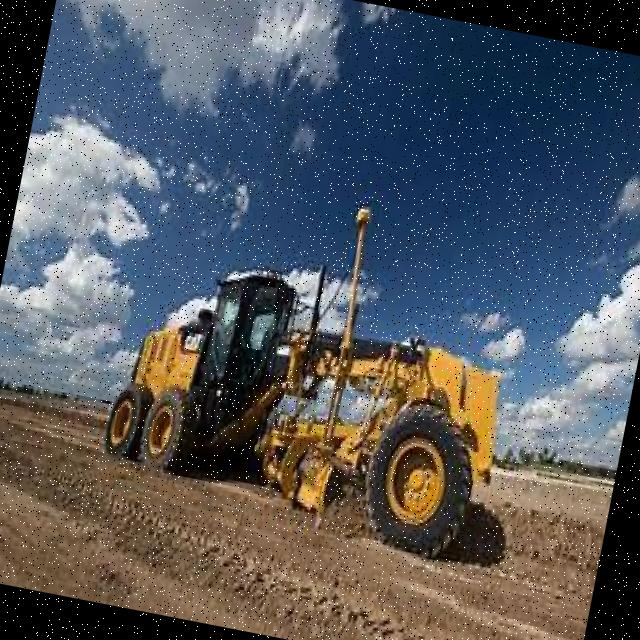Grader: (71, 204, 548, 586)
